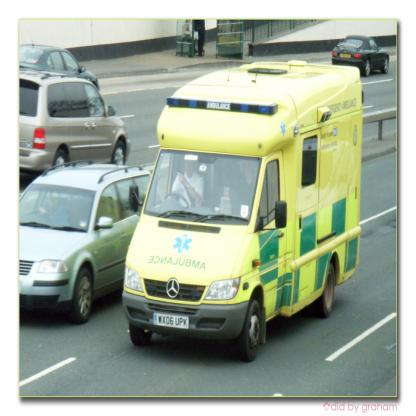Ambulance: (122, 41, 363, 362)
